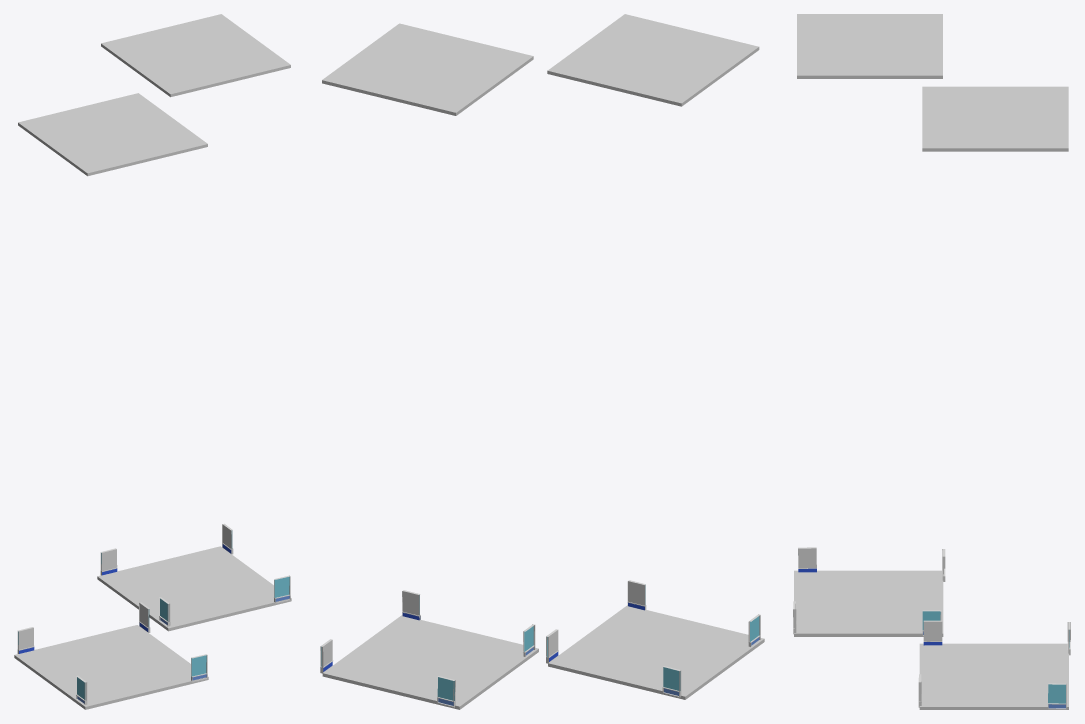
Rendered from uploads_files_2811433_building.dae.
The picture shows the model from 3 angles, left to right: view 1: azimuth 30°, elevation 25°; view 2: azimuth 150°, elevation 25°; view 3: azimuth 270°, elevation 25°; orthographic projection. The views are drawn at different scales.
Visible parts, largest first — view 1: Cube.007, Cube.011, Cube.006, Cube.001; view 2: Cube.011, Cube.006, Cube.007, Cube.001; view 3: Cube.006, Cube.011, Cube.001, Cube.007, Cube, Cube.003, Cube.002.
Part boxes in pixels (bbox=[...]): Cube.007: bbox=[14, 625, 208, 709]; Cube.011: bbox=[18, 93, 207, 176]; Cube.006: bbox=[101, 14, 290, 97]; Cube.001: bbox=[97, 546, 291, 631]; Cube.011: bbox=[547, 14, 759, 106]; Cube.006: bbox=[322, 23, 533, 115]; Cube.007: bbox=[548, 605, 764, 699]; Cube.001: bbox=[322, 615, 538, 709]; Cube.006: bbox=[922, 86, 1068, 151]; Cube.011: bbox=[797, 14, 942, 78]; Cube.001: bbox=[919, 643, 1068, 709]; Cube.007: bbox=[794, 570, 943, 636]; Cube: bbox=[923, 620, 942, 645]; Cube.003: bbox=[1048, 683, 1066, 709]; Cube.002: bbox=[798, 547, 816, 572].
Bounding box in the file's own units: 35.1 × 29.88 × 66.73.
